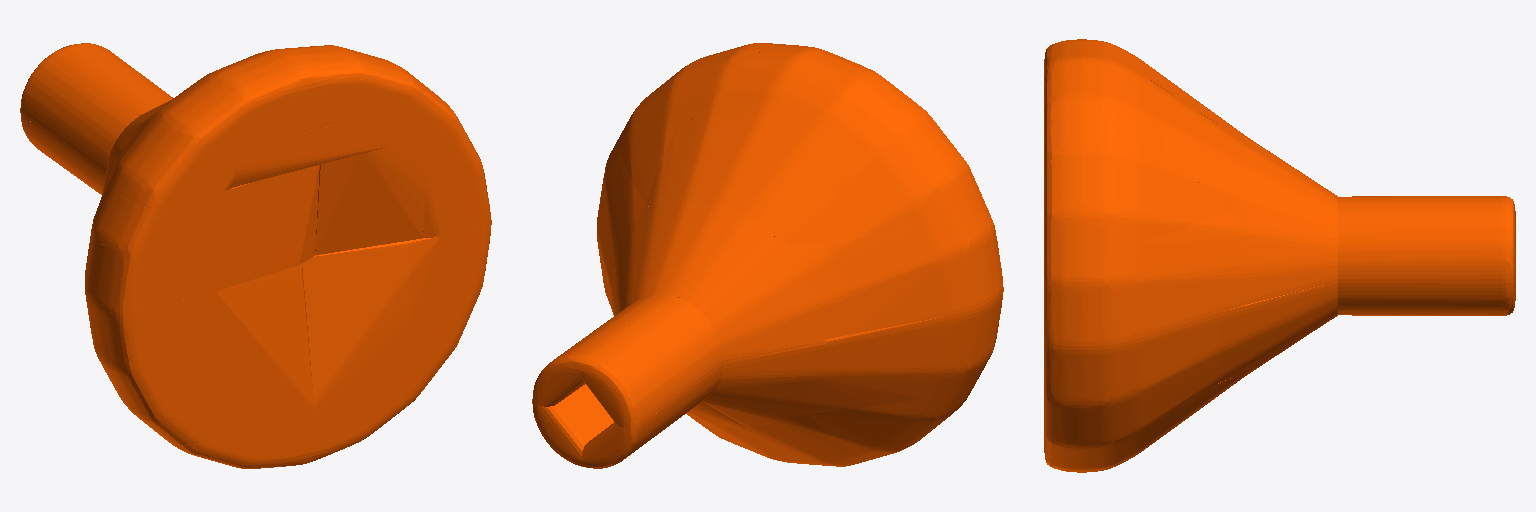
The robot description file, URDF, robot "Decanter":
<?xml version="1.0" ?>
<robot name="Decanter">
   <material name="obj_color">
      <color rgba="1.0 0.423529411765 0.0392156862745 1.0"/>
   </material>
   <link name="top">
      <inertial>
         <origin rpy="0.000554522045133317 0.000650468378529904 0.0006539825974749946" xyz="-0.0002652861592588794 -0.0281310991398482 -0.0001257321430753315"/>
         <mass value="0.4196800389167377"/>
         <inertia ixx="0.0006526050495503833" ixy="-5.03735430665003e-06" ixz="1.573934287961982e-06" iyy="0.0005547954149267924" iyz="-1.273513827684446e-06" izz="0.0006515725566610399"/>
      </inertial>
      <visual>
         <origin rpy="0 0 0" xyz="0 0 0"/>
         <geometry>
            <mesh filename="top_watertight_tiny.obj" scale="1 1 1"/>
         </geometry>
         <material name="obj_color"/>
      </visual>
      <collision>
         <origin rpy="0 0 0" xyz="0 0 0"/>
         <geometry>
            <mesh filename="top_watertight_tiny.obj" scale="1 1 1"/>
         </geometry>
      </collision>
   </link>
</robot>

--- What the picture shows (computed from the rendered views, not written in the file) ---
The picture shows the robot from 3 angles, left to right: view 1: azimuth 30°, elevation 25°; view 2: azimuth 150°, elevation 25°; view 3: azimuth 270°, elevation 25°; orthographic projection.
Robot: Decanter — 1 links, 0 joints (none); root link top; default pose: all joints at 0.
Links seen in each view (by area): view 1: top; view 2: top; view 3: top.
Link boxes in pixels (x1,y1,x2,y2): top: (20, 43, 491, 468); top: (532, 43, 1003, 468); top: (1044, 39, 1515, 472).
Bounding box of the posed robot: 0.1089 × 0.1175 × 0.1088 m (x, y, z).
1 mesh visuals loaded from 1 distinct referenced files (1 OBJ).